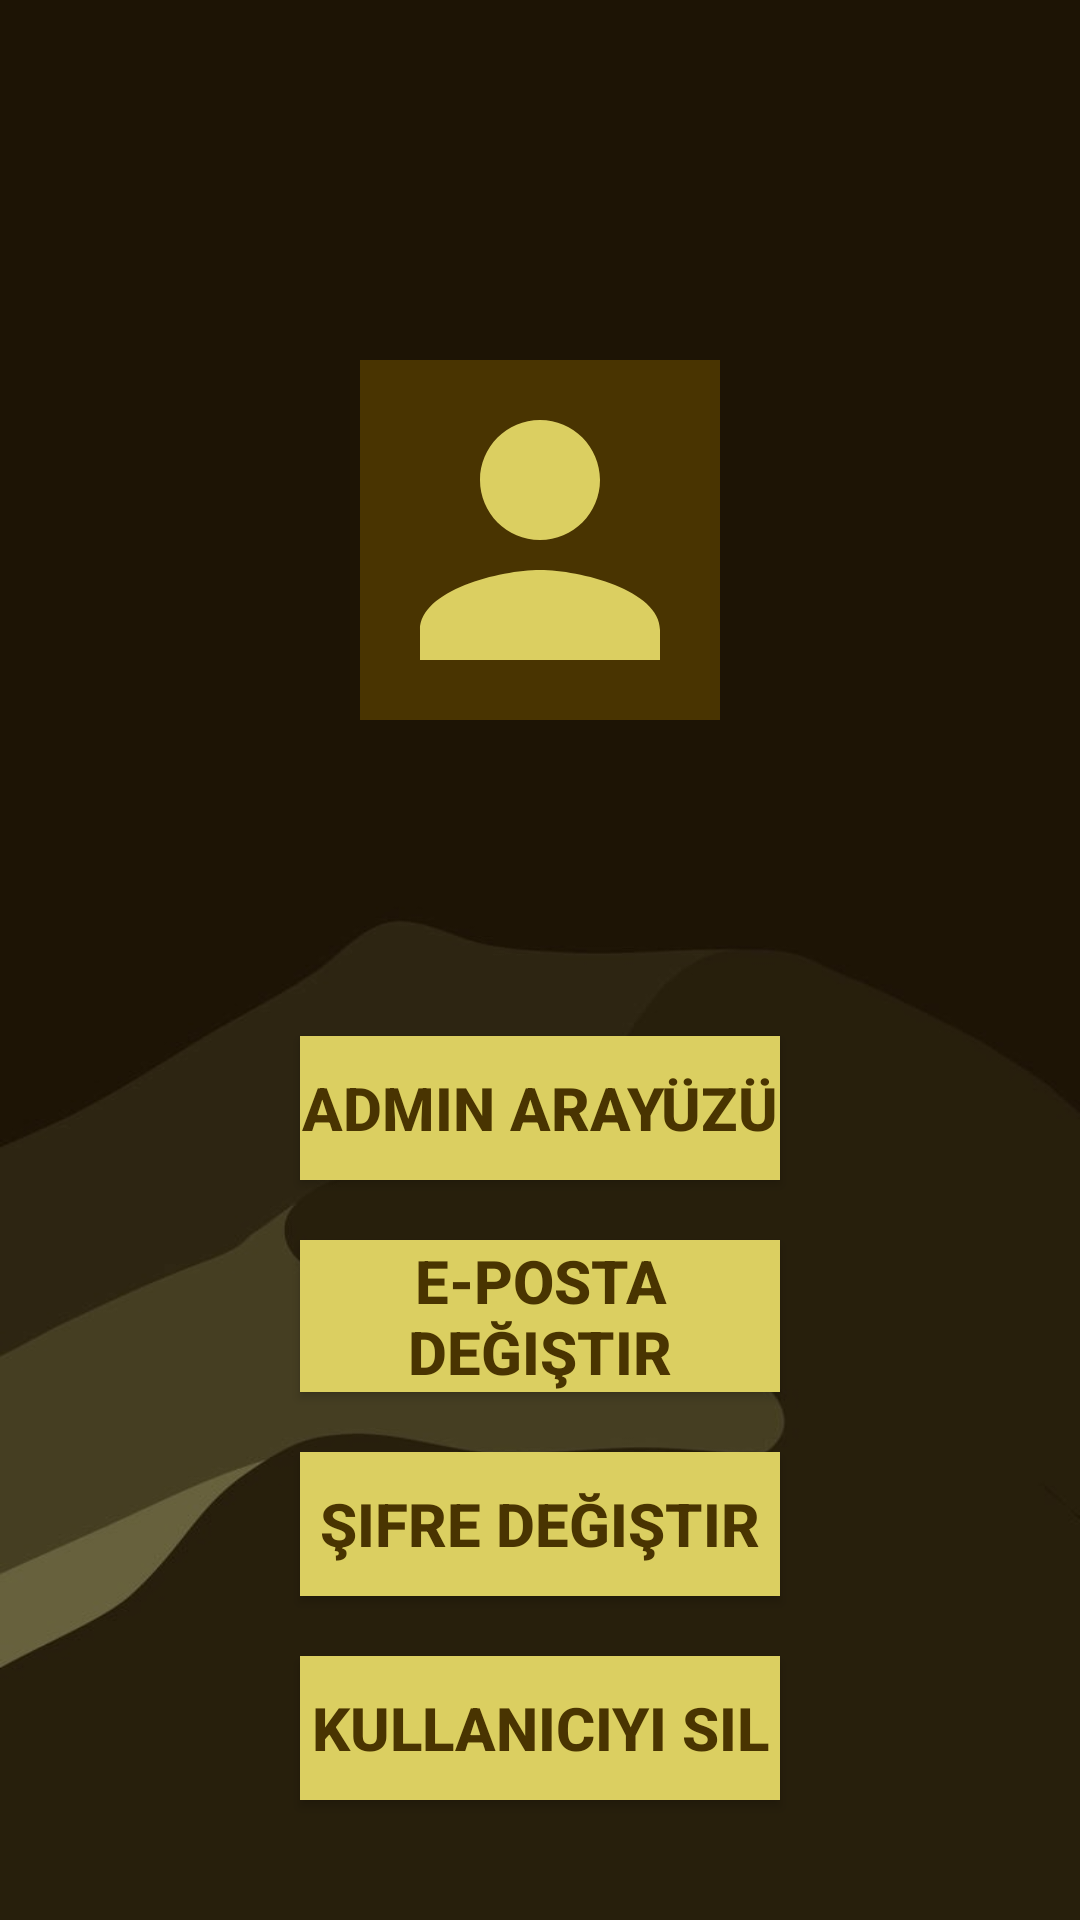

Screen size 1080*1920. Icon name, then its box in pixels as BBox(x1, y1, x2, y2):
person: BBox(360, 360, 720, 720)
